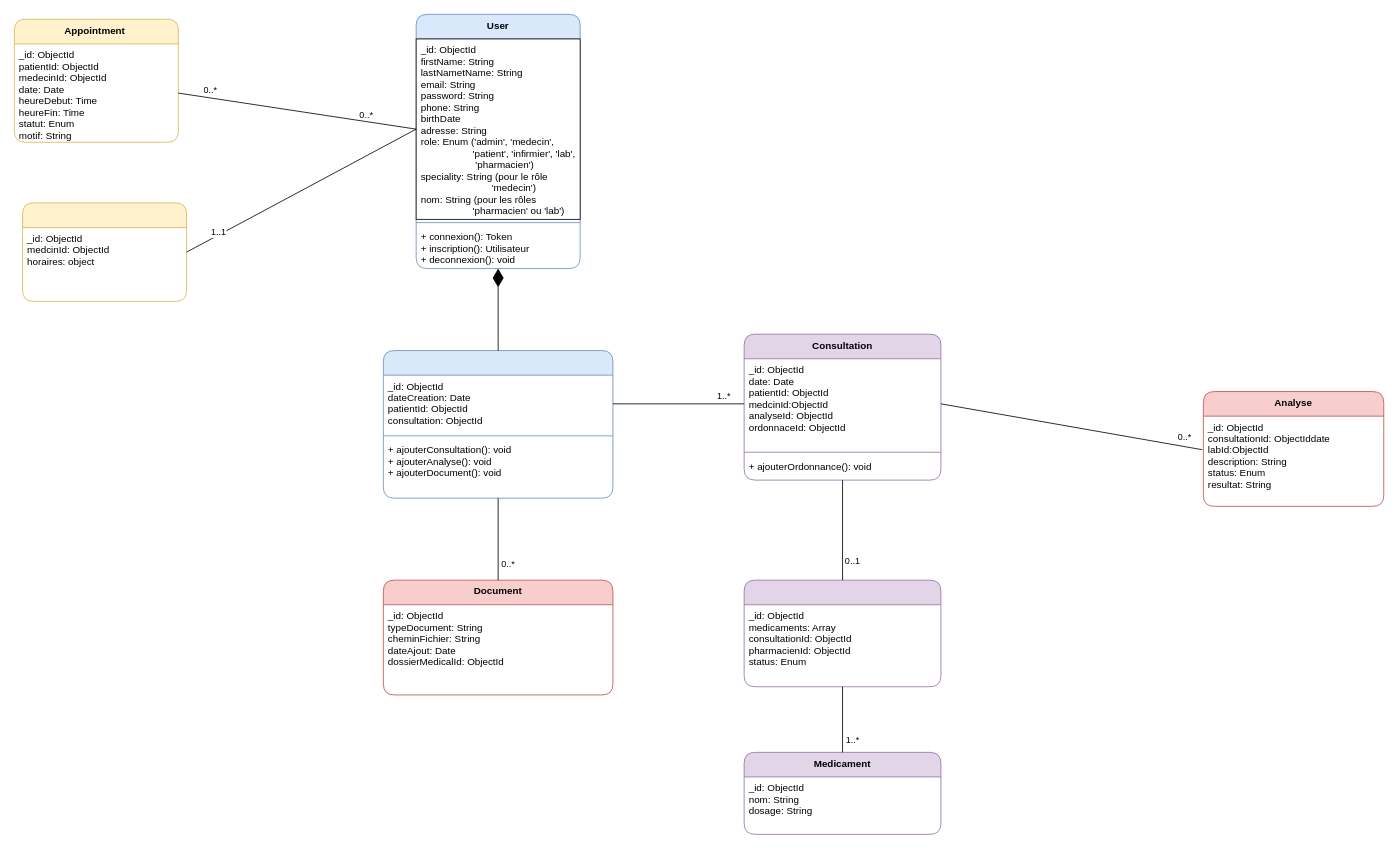
This 1398x851 diagram has some shape labels left out. Each missing label, with the box of its shape:
DossierMedical: (383, 350, 613, 498)
Ordonnance: (743, 579, 941, 687)
plannification: (22, 202, 187, 301)
